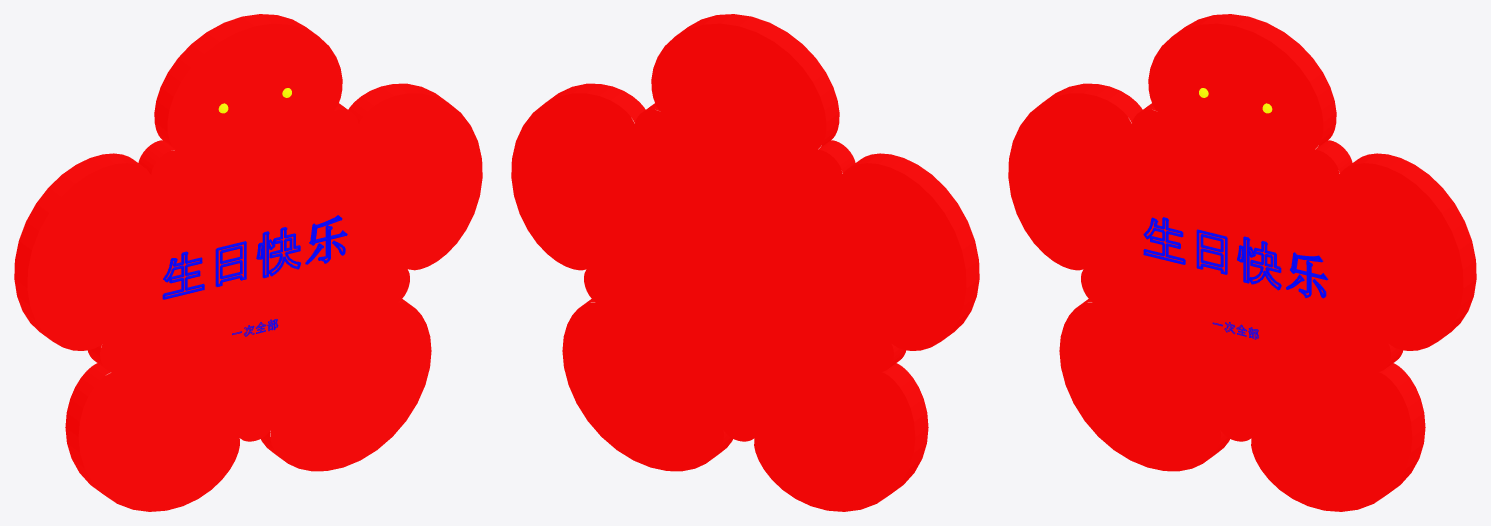
3 renders of one model, left to right at view 1: azimuth 30°, elevation 25°; view 2: azimuth 150°, elevation 25°; view 3: azimuth 330°, elevation 25°, orthographic.
Size of the model in its own units: 1 by 0.9717 by 0.0598.
